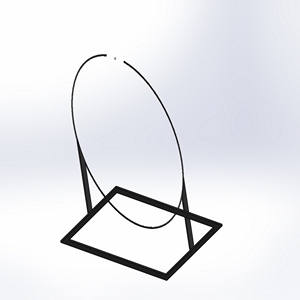circle: (59, 52, 223, 281)
